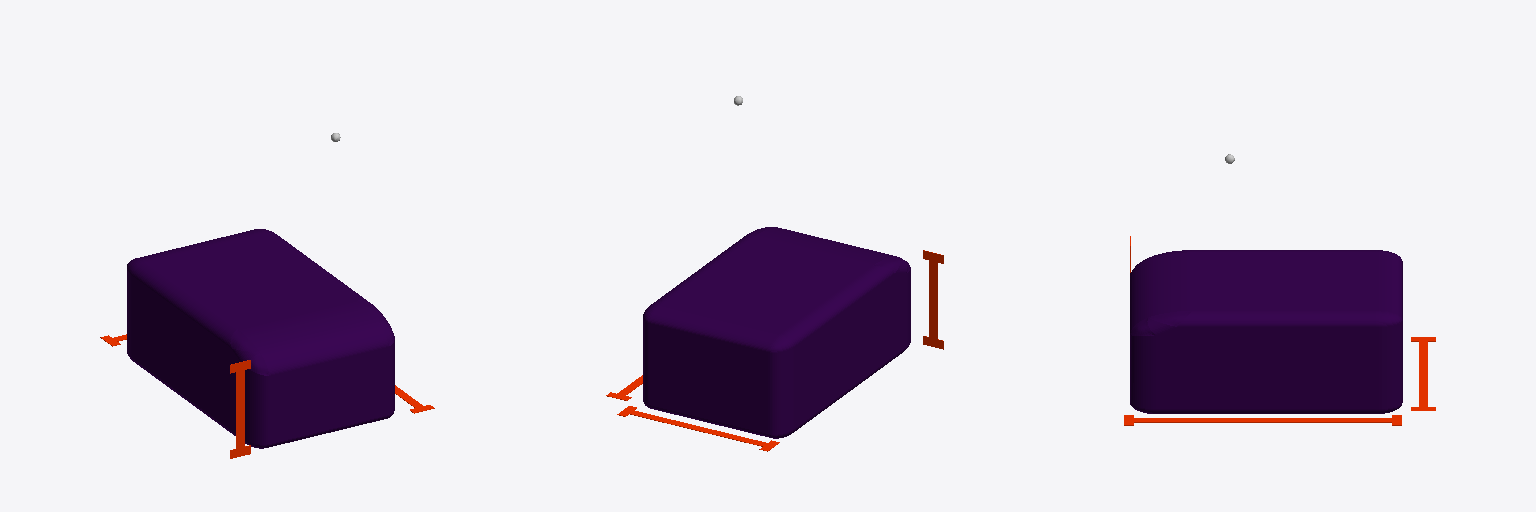
Rendered from duffel.obj.
3 views of the same model, side by side, from view 1: azimuth 30°, elevation 25°; view 2: azimuth 150°, elevation 25°; view 3: azimuth 270°, elevation 25° (orthographic).
Parts seen in each view (by area): view 1: Cube, ruler_x_Plane.005; view 2: Cube, ruler_x_Plane.005, ruler_y_Plane.007; view 3: Cube, ruler_z_Plane.002, ruler_y_Plane.007.
Part boxes in pixels (left/top/right/bottom): Cube: left=127, top=229, right=394, bottom=448; ruler_x_Plane.005: left=230, top=360, right=250, bottom=458; Cube: left=643, top=227, right=910, bottom=438; ruler_x_Plane.005: left=923, top=250, right=943, bottom=349; ruler_y_Plane.007: left=617, top=406, right=779, bottom=451; Cube: left=1130, top=250, right=1402, bottom=413; ruler_z_Plane.002: left=1124, top=415, right=1401, bottom=425; ruler_y_Plane.007: left=1411, top=337, right=1435, bottom=410.
Size of the model in its own units: 0.48 by 0.5799 by 0.64.